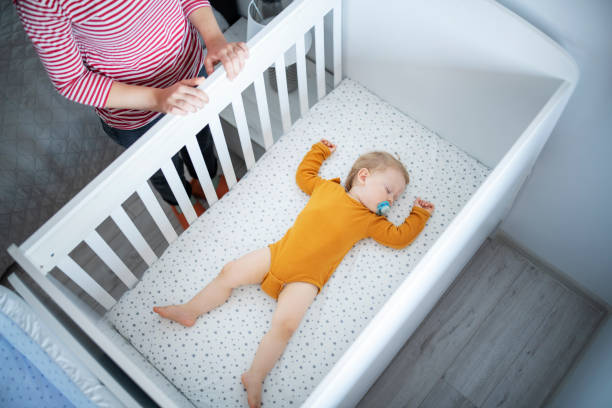baby: (153, 140, 433, 407)
crib: (9, 0, 577, 406)
